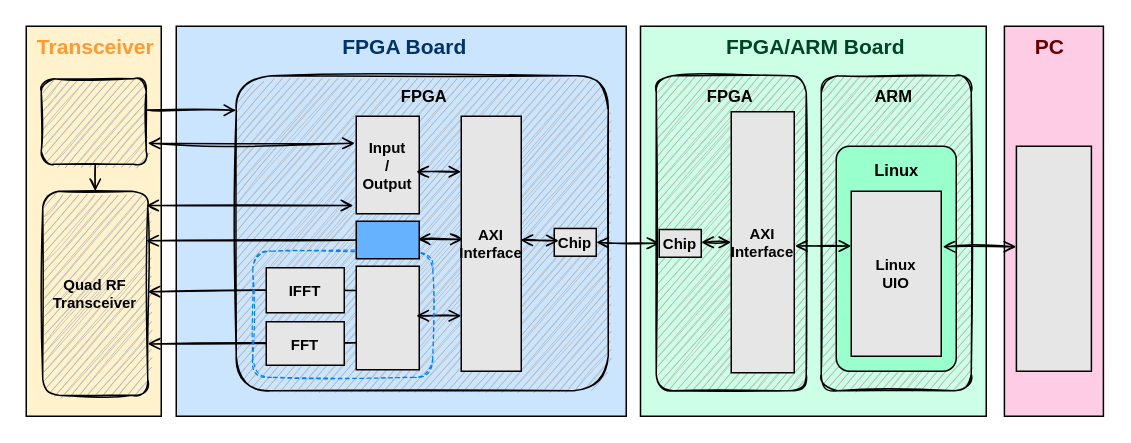
Image size: 1131x443. Some labels were removed from this diagram. Here are the shapes that lost their labels. From the top down, the centre of each, then its label:
At point 93,120: "Clock generator".
At point 387,239: "FPGA ctrl".
At point 1053,258: "Serial or TCP/IP Data".
At point 387,317: "Soft IP core".
